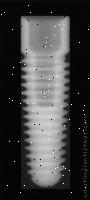Keystone Dental: (21, 16, 70, 189)
